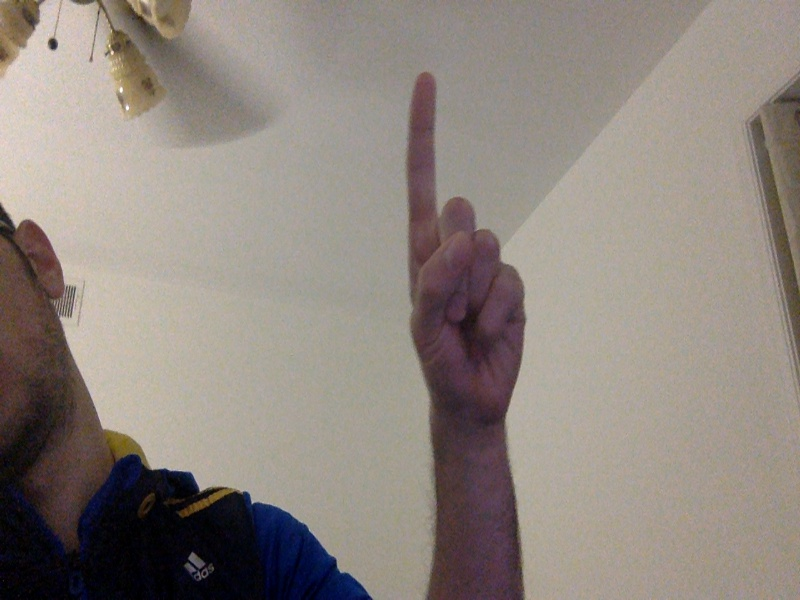1-hand: (409, 73, 529, 422)
